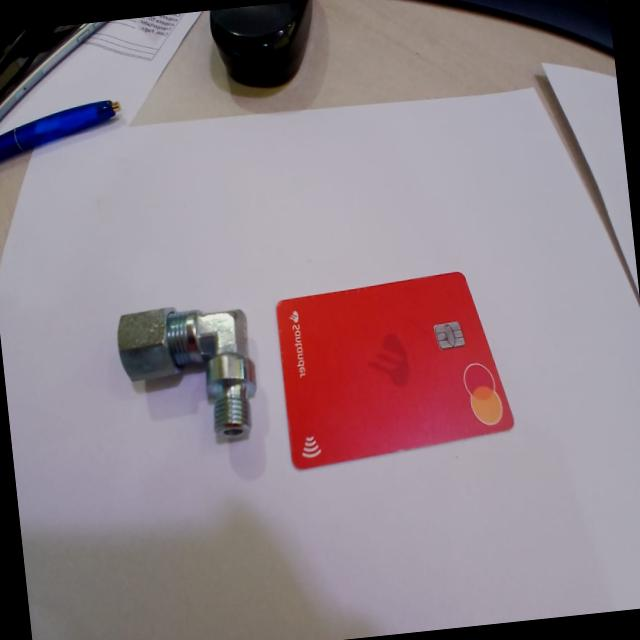cartao: (274, 267, 516, 470)
rosca_externa: (114, 298, 262, 451)
